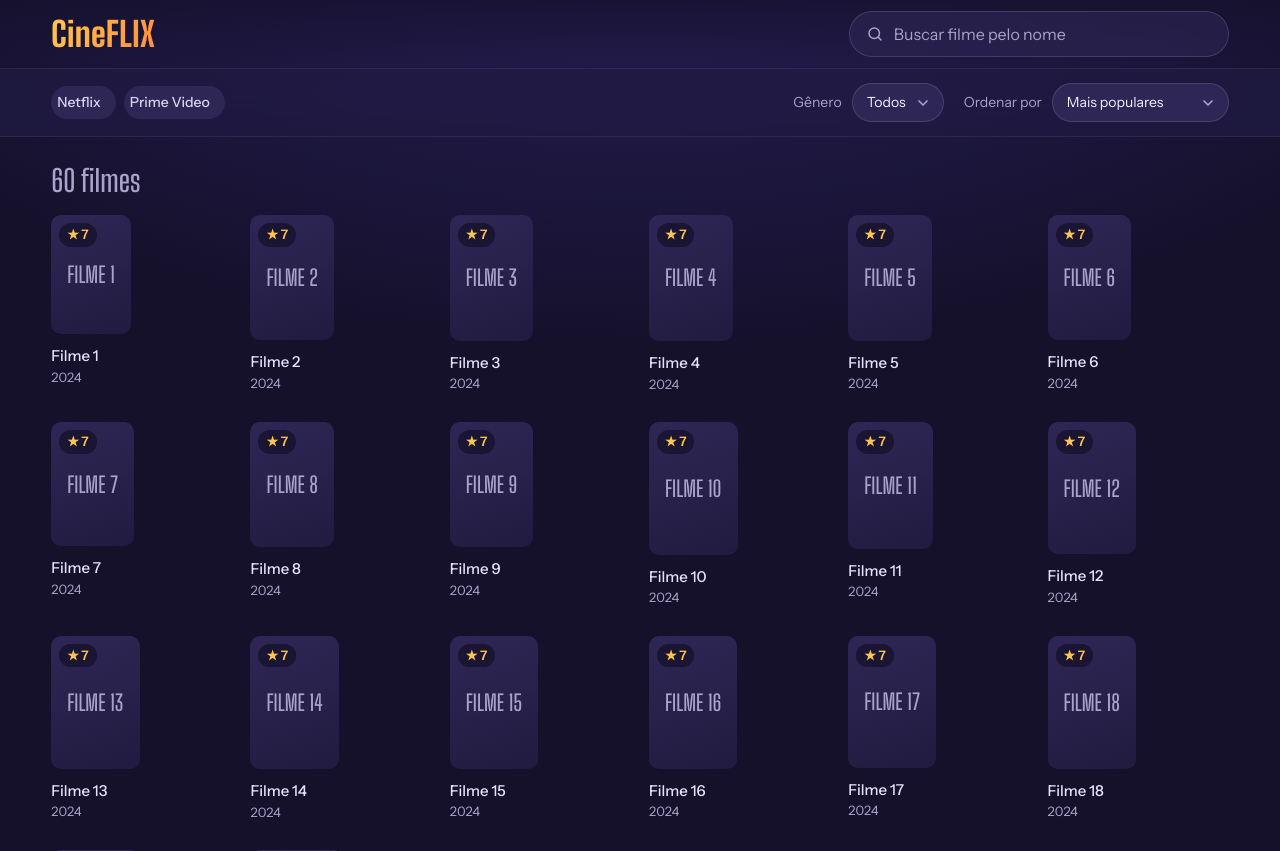
Test: abrir e fechar os detalhes mantém a lista como estava
The width and height of the screenshot is (1280, 851).
Click the button "Filme 1 ★ 7 Filme 1 2024". click: (142, 304)
box: [51,215,232,394]
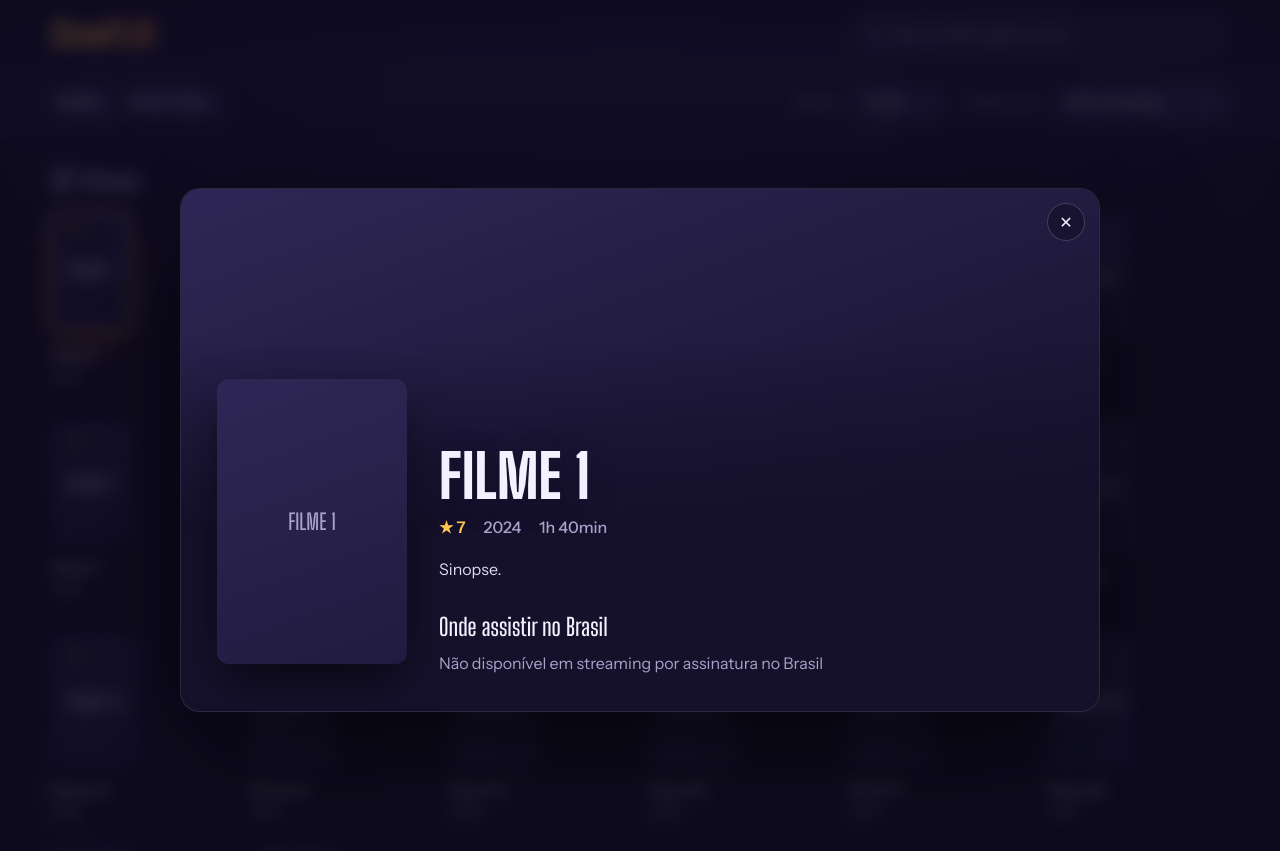
Expected: the dialog "Filme 1" is shown, [180,188,1100,712]
Press Escape
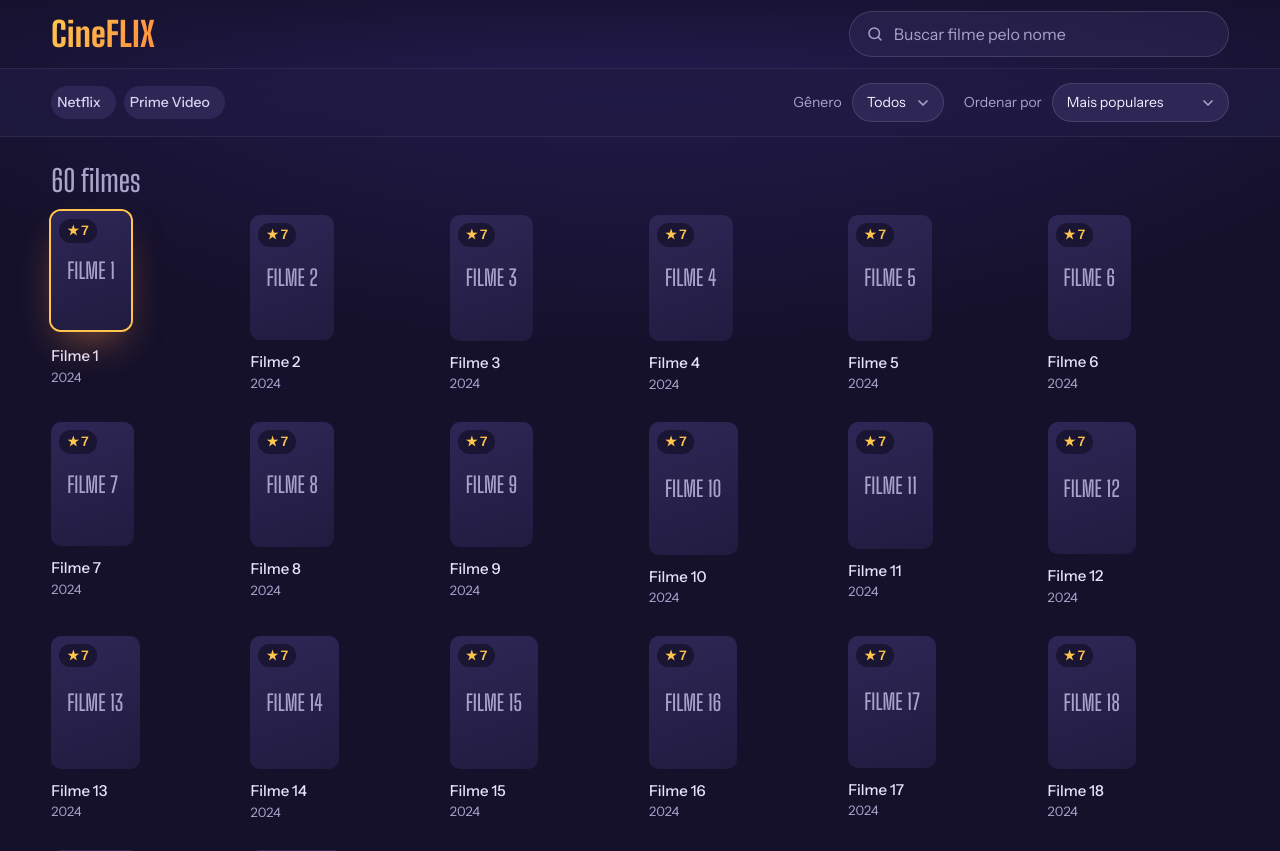
Expected: the dialog is gone
